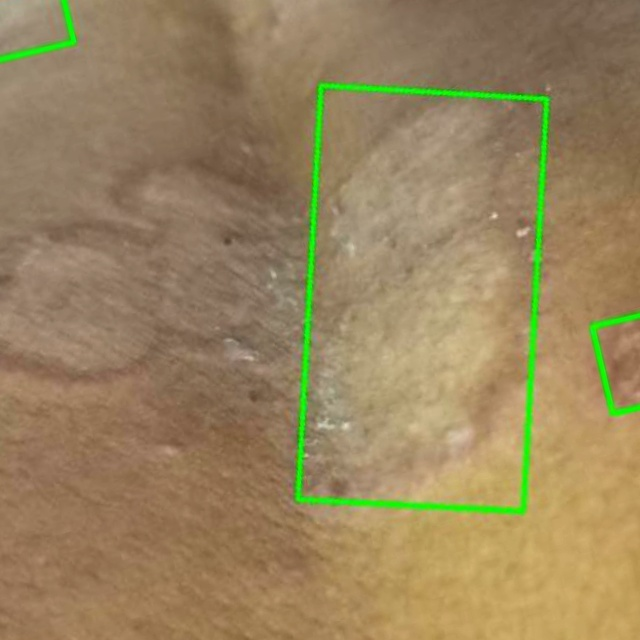Tinea Corporis: (298, 85, 546, 511)
